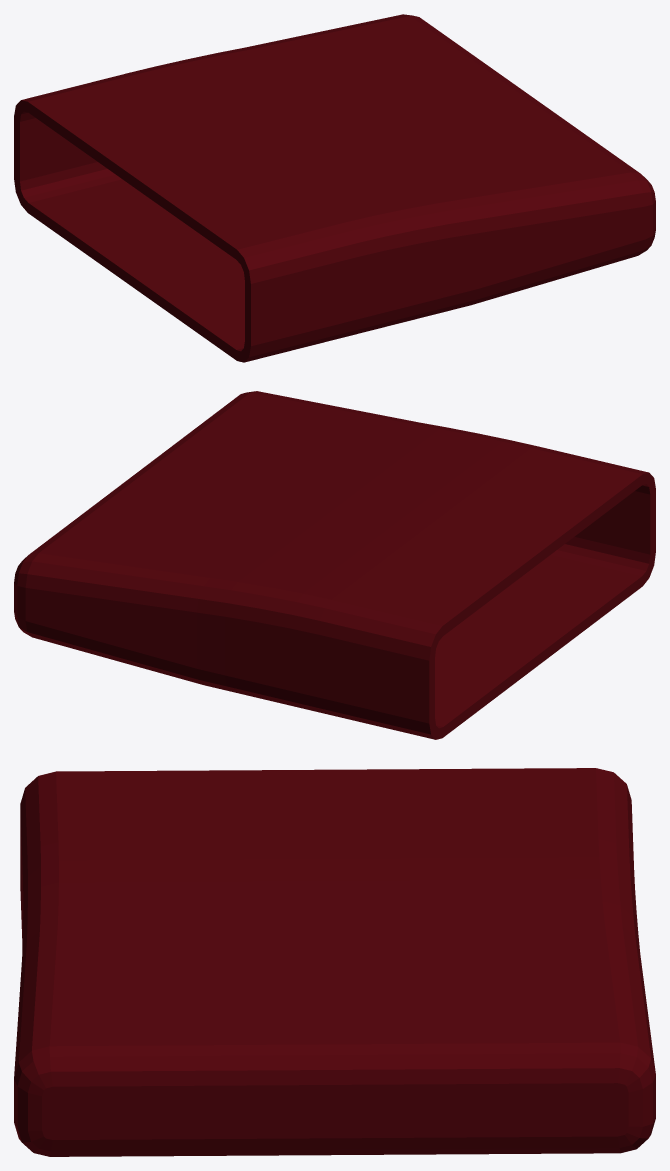
File: engine_atas.obj
The picture shows the model from 3 angles, top to bottom: view 1: azimuth 30°, elevation 25°; view 2: azimuth 150°, elevation 25°; view 3: azimuth 270°, elevation 25°; orthographic projection. The views are drawn at different scales.
Parts seen in each view (by area): view 1: engine_atas; view 2: engine_atas; view 3: engine_atas.
Part boxes in pixels (x1,y1,x2,y2): engine_atas: (14, 14, 655, 362); engine_atas: (14, 391, 655, 739); engine_atas: (14, 768, 655, 1156).
Bounding box in the file's own units: 0.864 × 0.2207 × 0.8718.
